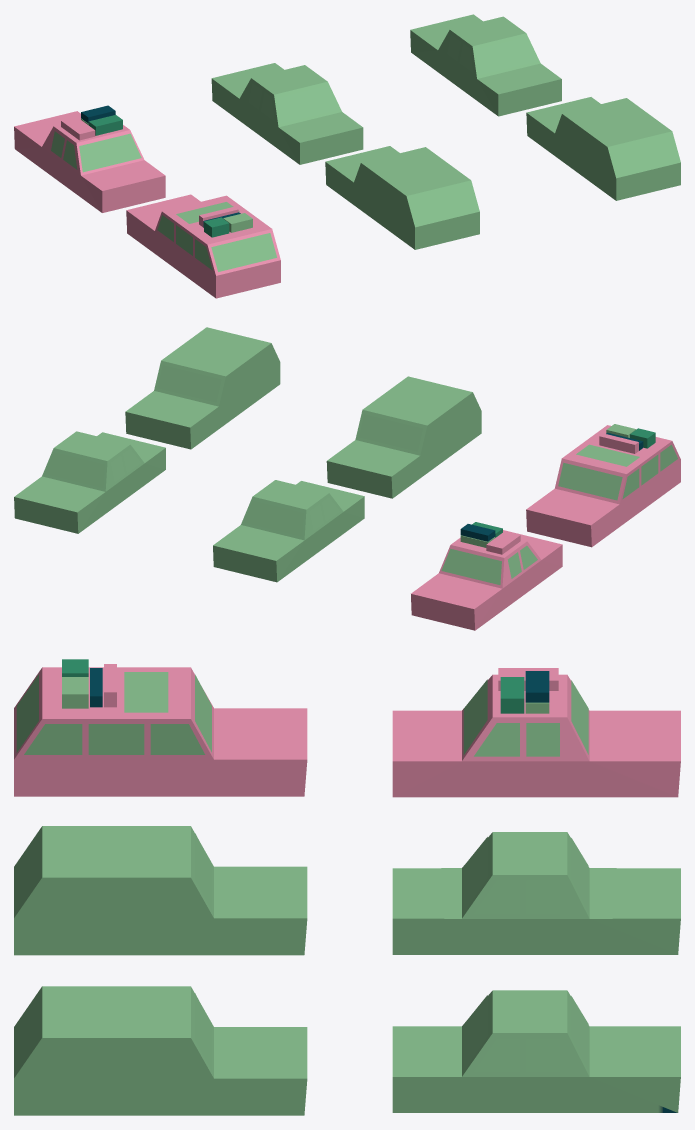
Rendered from Cars.fbx.
The picture shows the model from 3 angles, top to bottom: view 1: azimuth 30°, elevation 25°; view 2: azimuth 150°, elevation 25°; view 3: azimuth 270°, elevation 25°; orthographic projection. The views are drawn at different scales.
Visible parts, largest first — view 1: Car11, Car9, Car10, Car8, Car, Car7; view 2: Car11, Car10, Car9, Car8, Car, Car7; view 3: Car11, Car9, Car10, Car8, Car, Car7.
Part boxes in pixels (box(x1,y1,x2,y2)): Car11: box(126, 194, 280, 298); Car9: box(325, 146, 479, 249); Car10: box(526, 97, 680, 200); Car8: box(14, 105, 165, 212); Car: box(211, 63, 363, 164); Car7: box(410, 14, 561, 116); Car11: box(526, 424, 680, 547); Car10: box(125, 327, 280, 449); Car9: box(326, 376, 481, 498); Car8: box(411, 522, 562, 630); Car: box(213, 480, 364, 582); Car7: box(14, 431, 165, 533); Car11: box(14, 659, 307, 796); Car9: box(14, 826, 307, 955); Car10: box(14, 986, 307, 1115); Car8: box(392, 668, 680, 797); Car: box(392, 832, 680, 954); Car7: box(392, 990, 680, 1112).
Size of the model in its own units: 4.67 by 0.5713 by 3.55.
